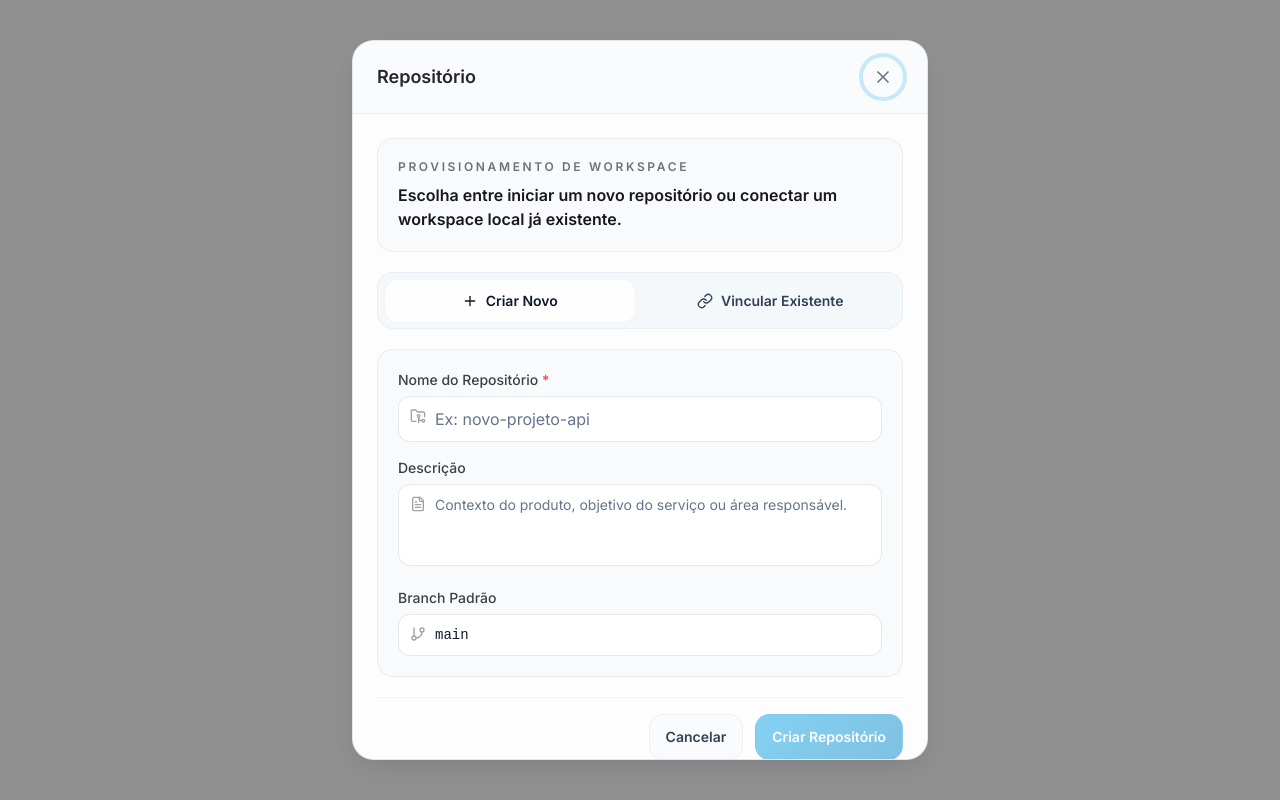
Test case: NewRepoModal › requires local path in link mode
Click the button "Vincular Existente": [770, 301] box 644,279 -> 896,323
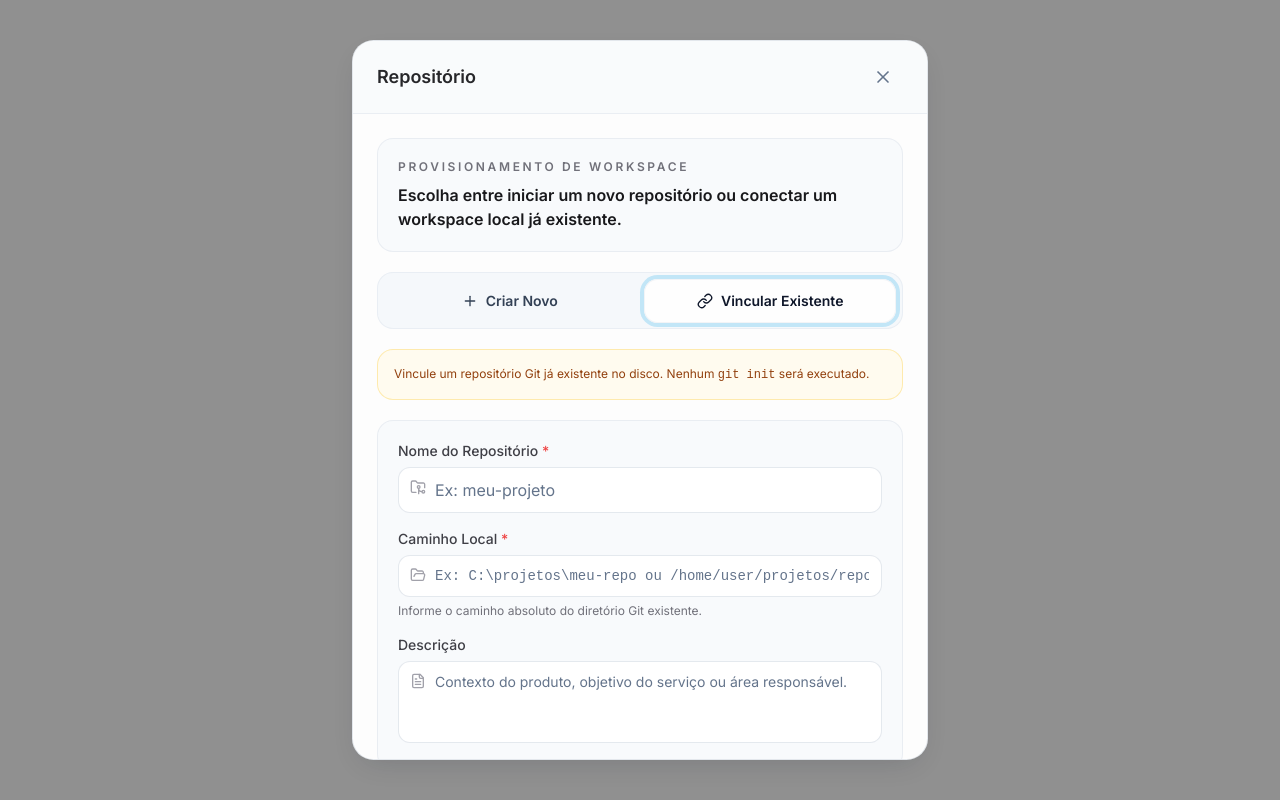
In the field with placeholder "Ex: meu-projeto": [640, 490] box 398,467 -> 882,513, type "legacy-repo"
(page scrolled)
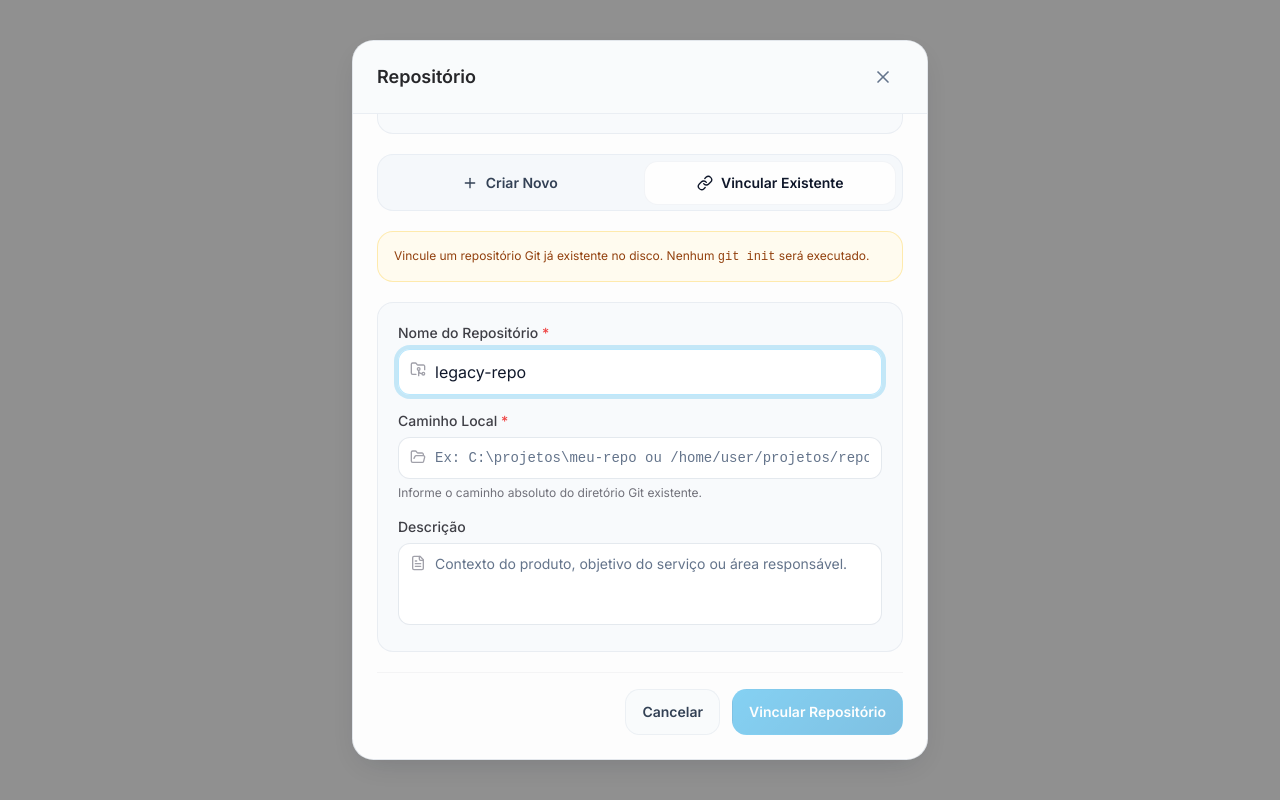
expect the button "Vincular Repositório" is disabled: met, box 732,689 -> 903,735
